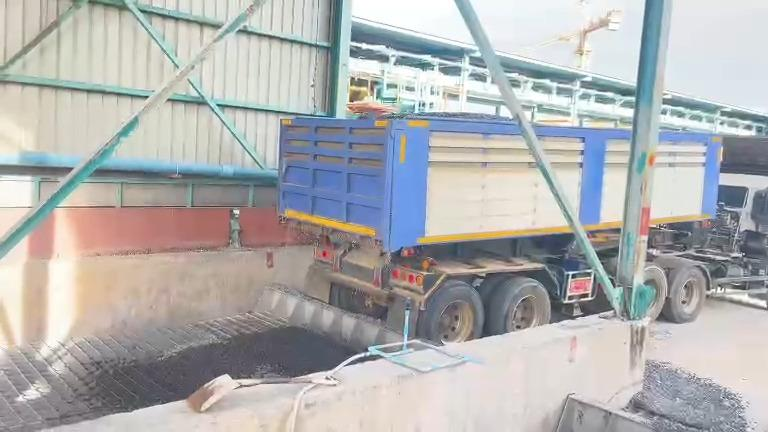gravel: (629, 362, 752, 431)
